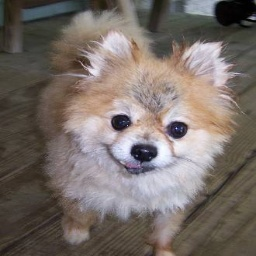dog: (35, 2, 230, 256)
